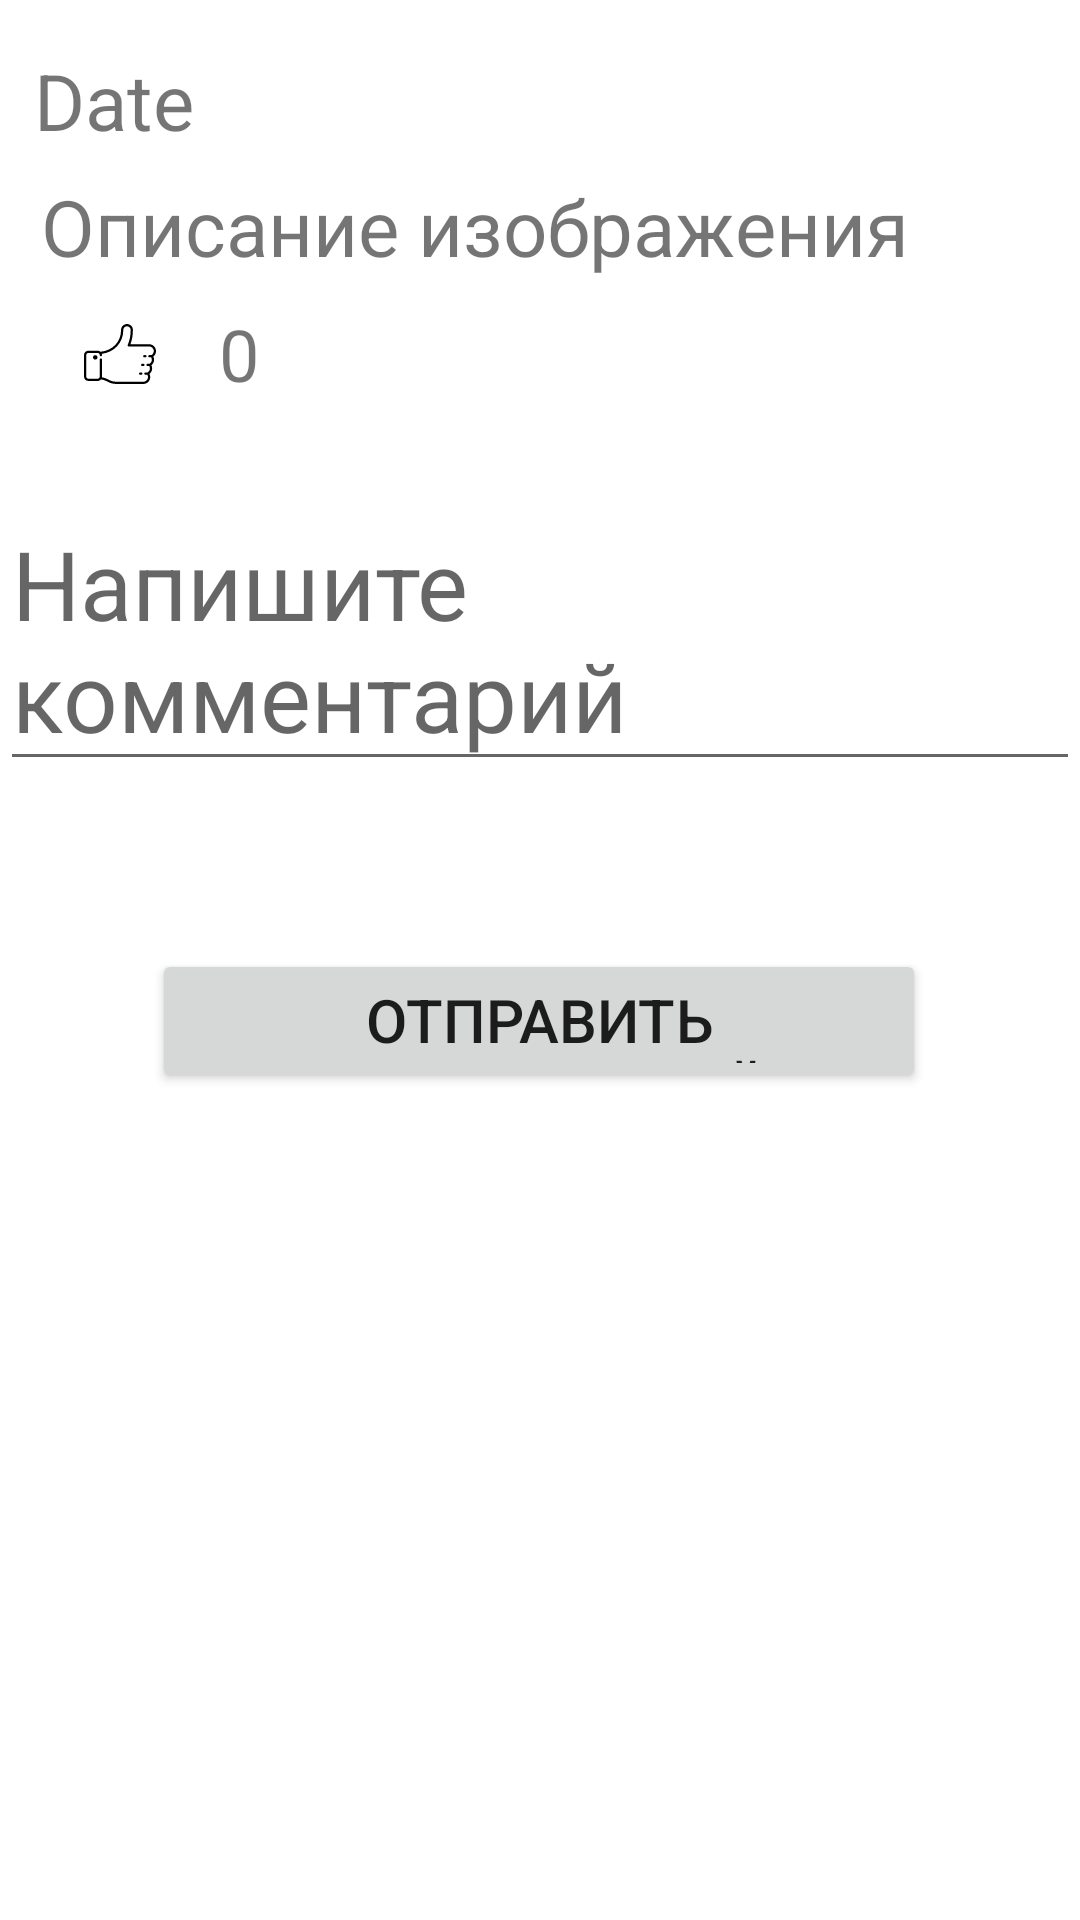

Locate icon controls on the screen. Image size 1080 × 1920, boxes as (x1, y1, x2, y2).
like: (84, 324, 156, 384)
